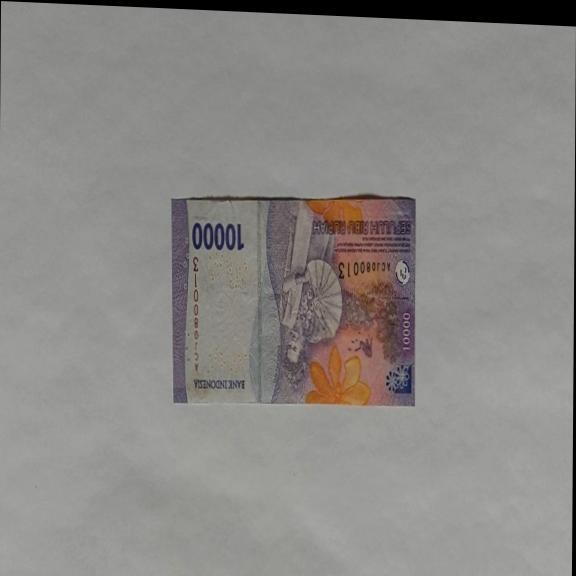Kertas: (169, 186, 417, 414)
